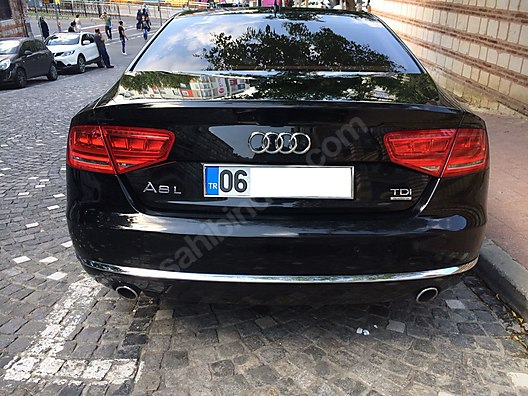audi: (239, 128, 316, 156)
